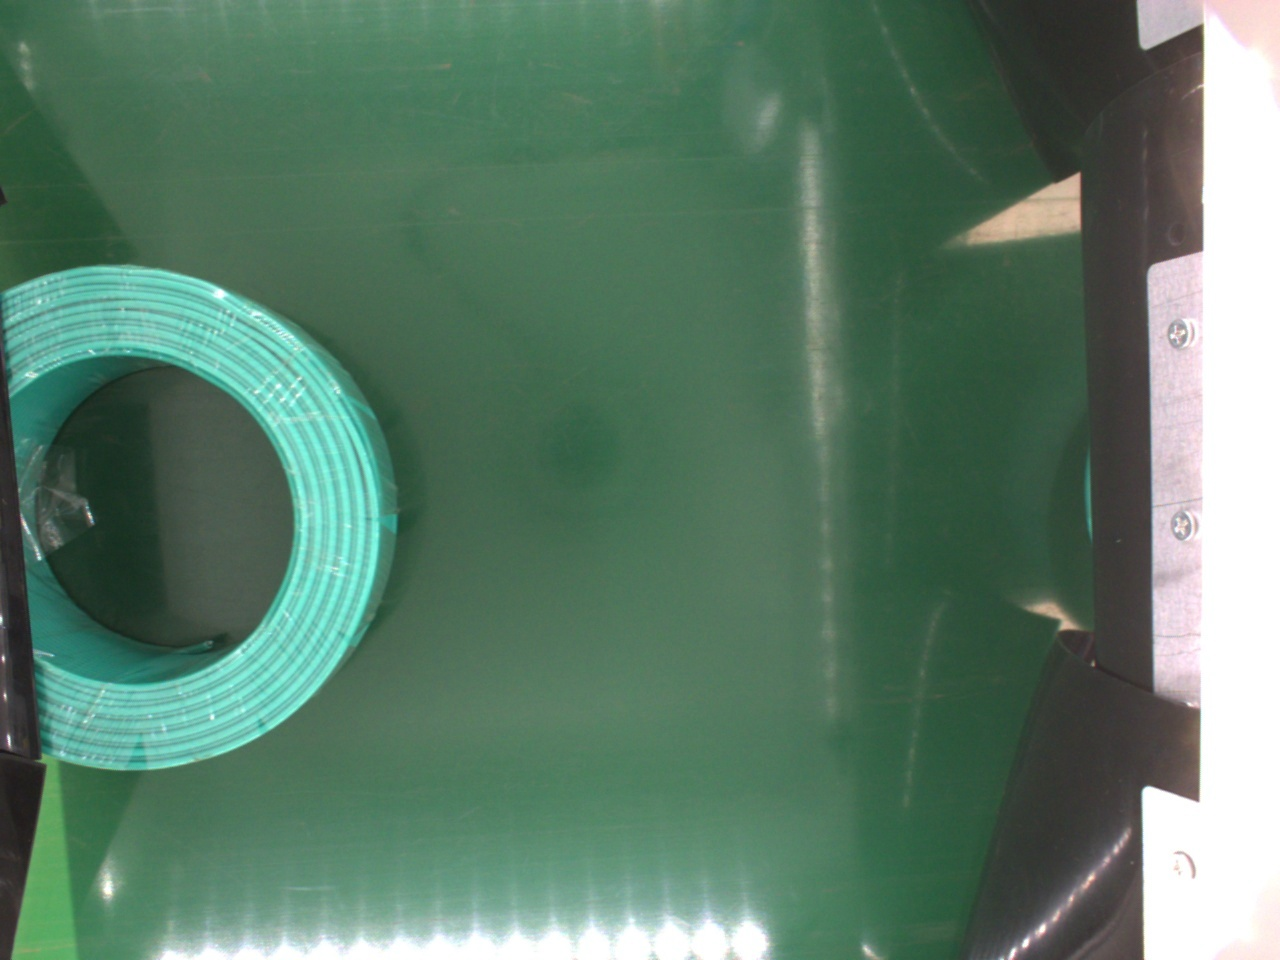green: (7, 264, 396, 774)
